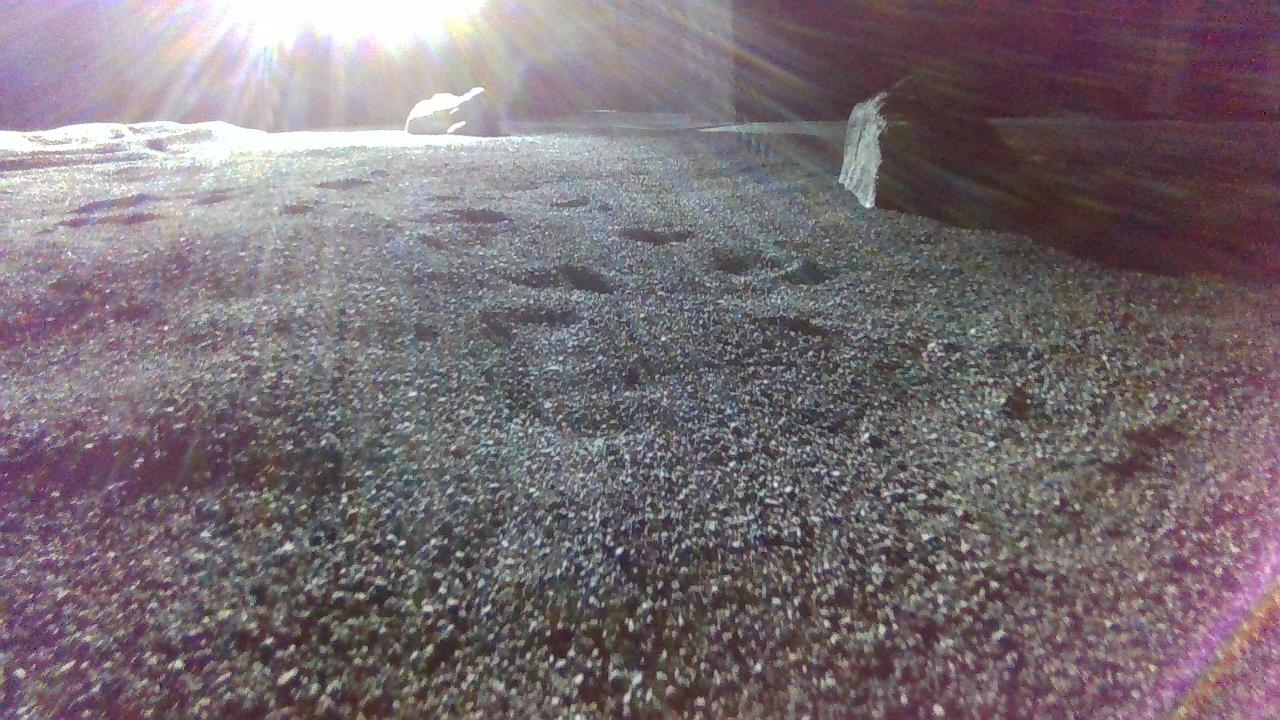rock: (841, 83, 1024, 218), (405, 86, 500, 133)
